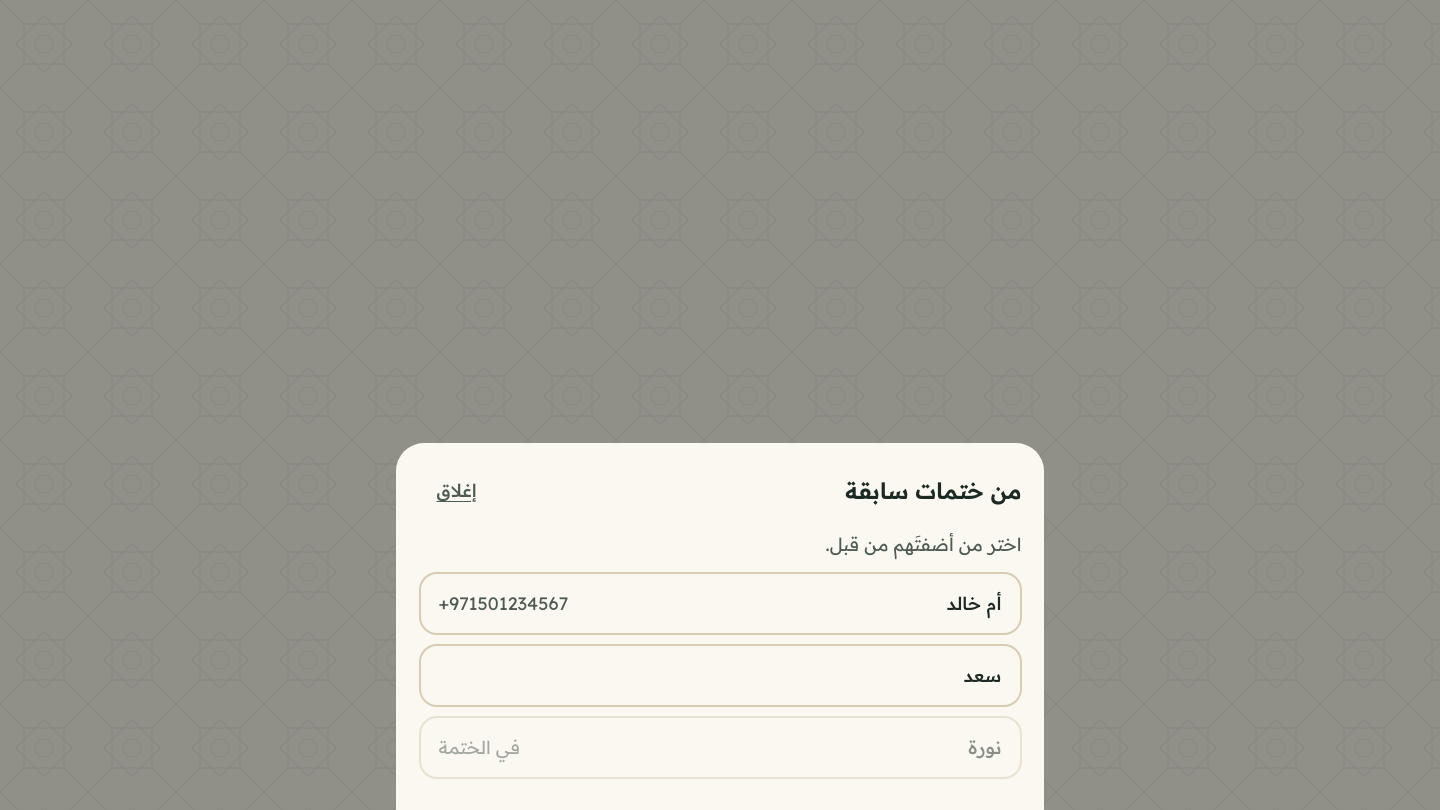
Test: SavedPicker › a refusal (not_found) is said plainly and keeps the sheet open
The image size is (1440, 810).
Click the button "أم خالد +971501234567" at (974, 603), box [418, 572, 1022, 634]
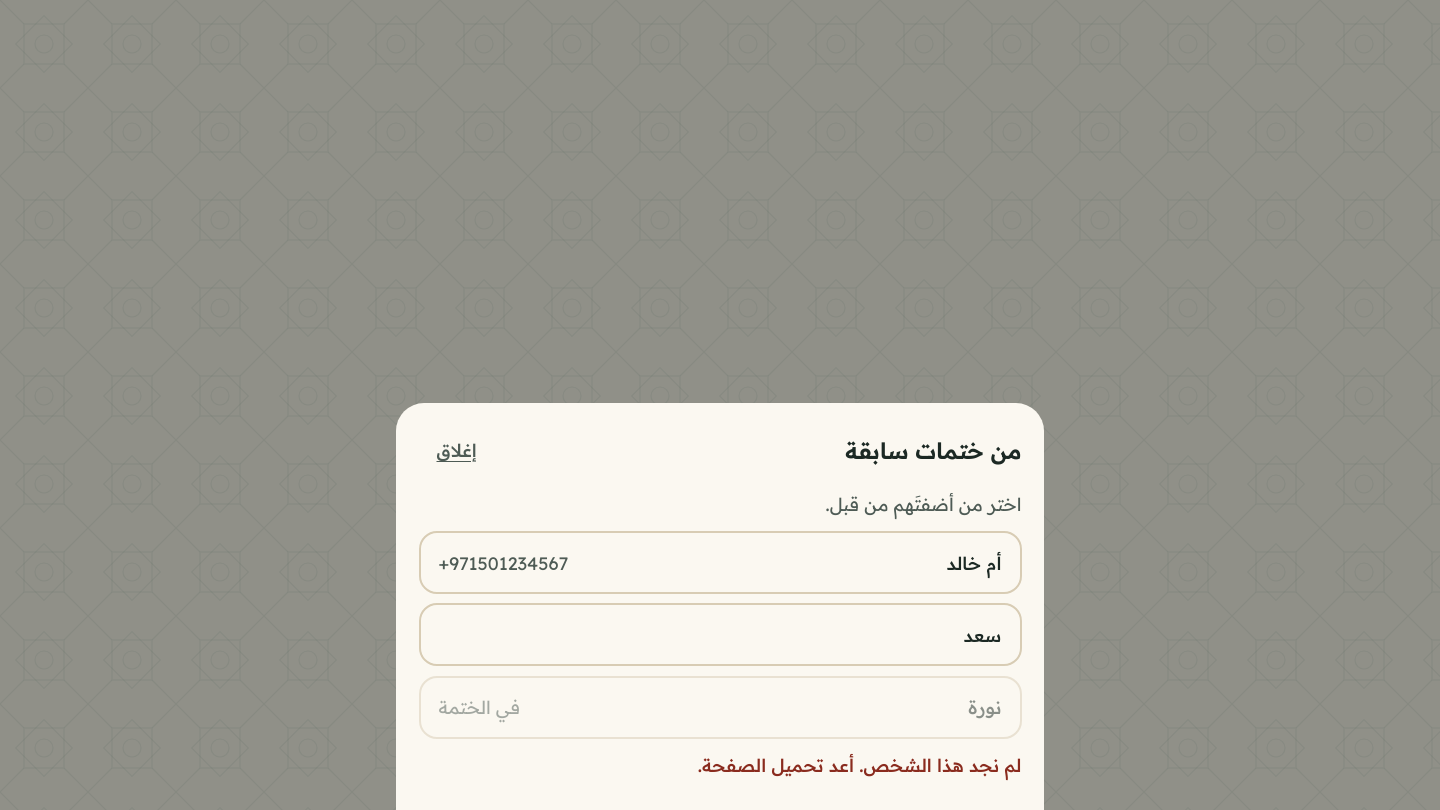
Now the message reads "لم نجد هذا الشخص. أعد تحميل الصفحة.", box [698, 754, 1022, 776]
